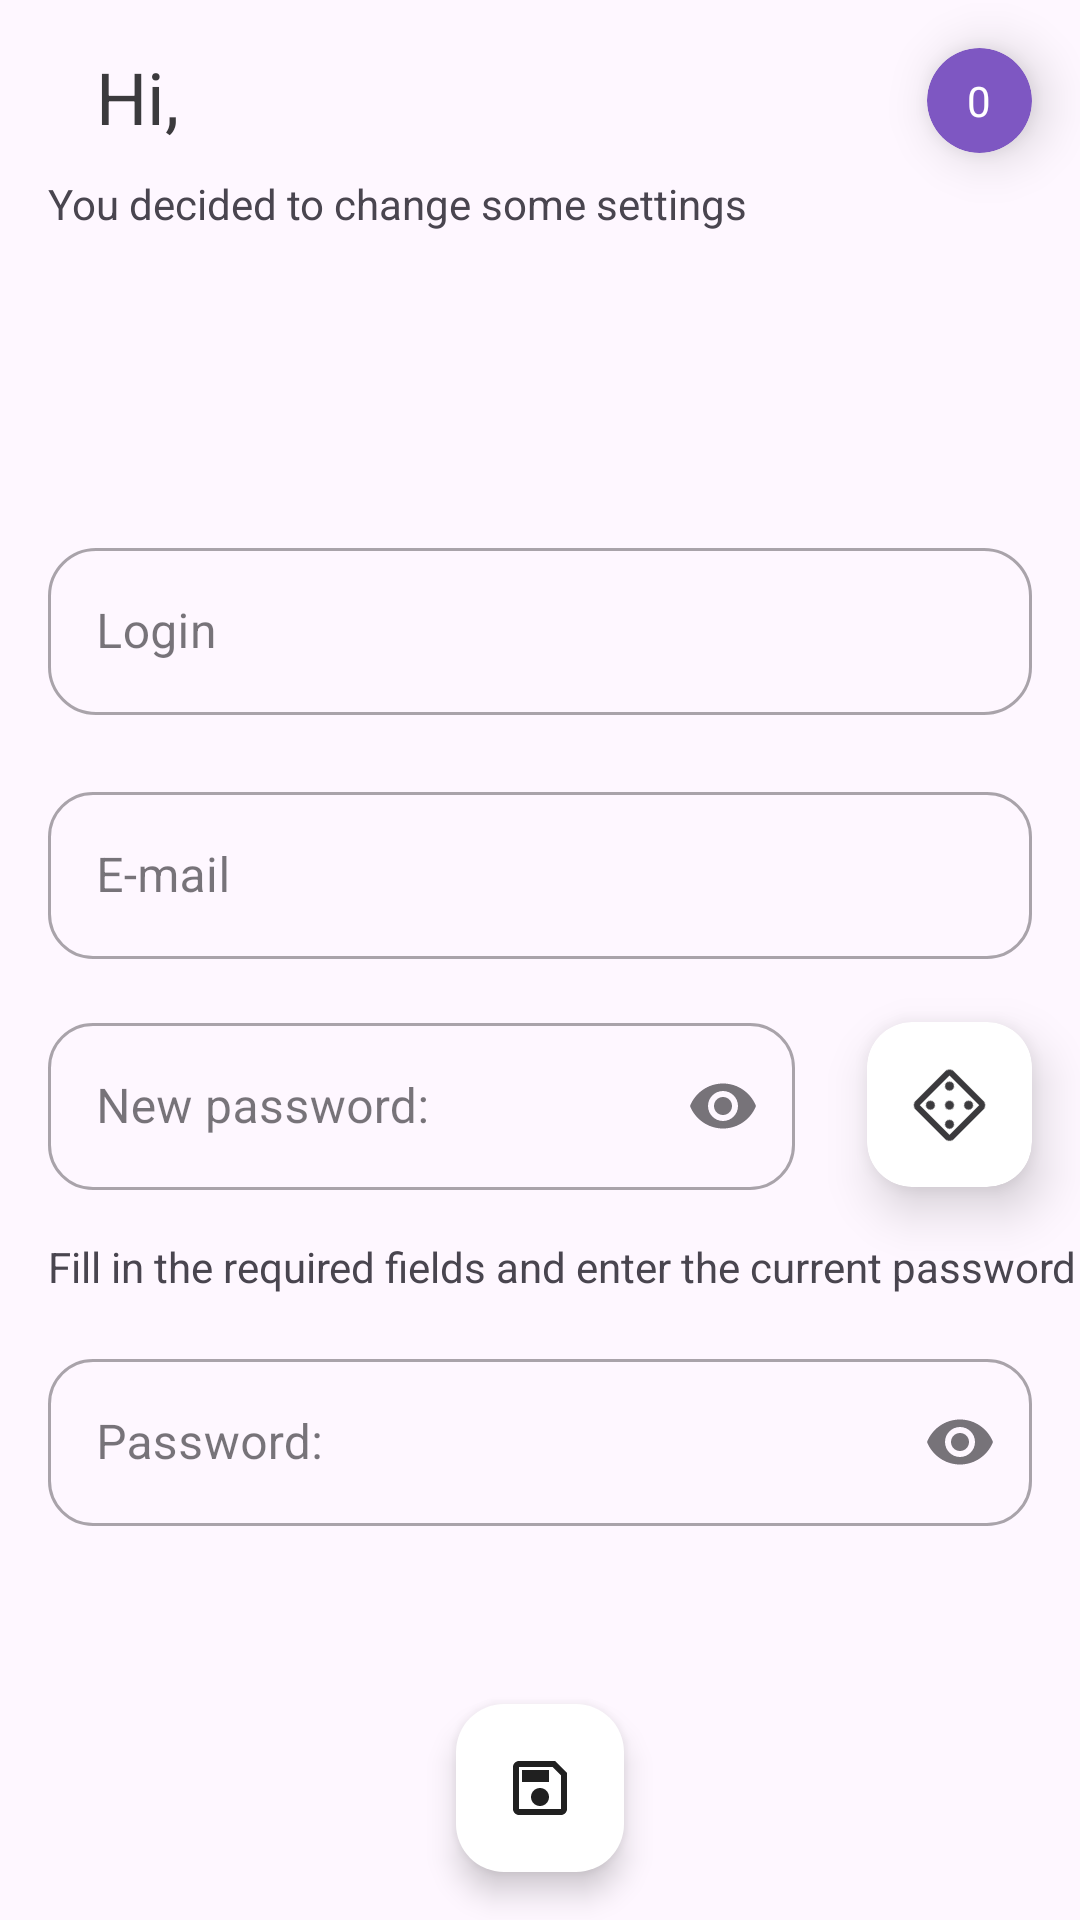

Icon bounding boxes for this 1080px x 1920px phone screenshot, format [x1,y1,x2,y2]:
Save password: [456,1704,624,1872]
